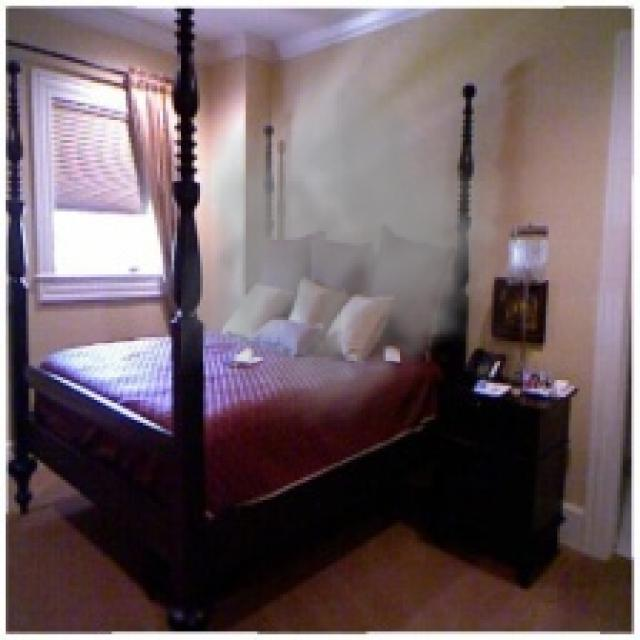smoke: (180, 54, 537, 440)
